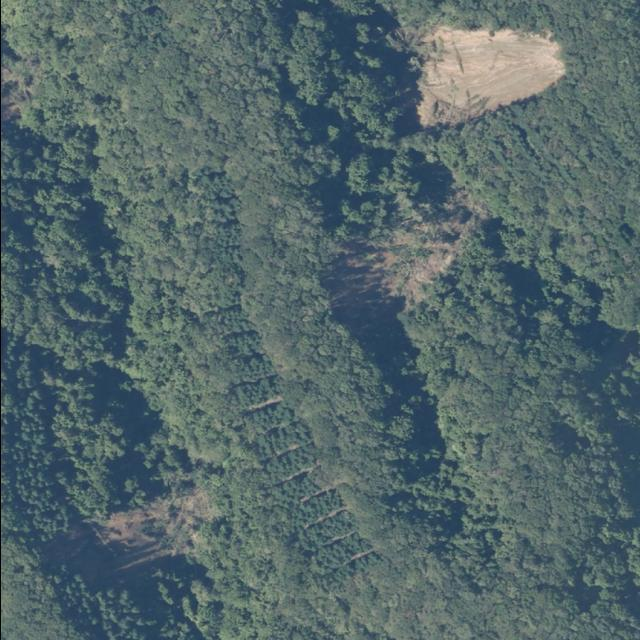landslide: (417, 25, 564, 127), (97, 489, 210, 570), (404, 192, 475, 288)
